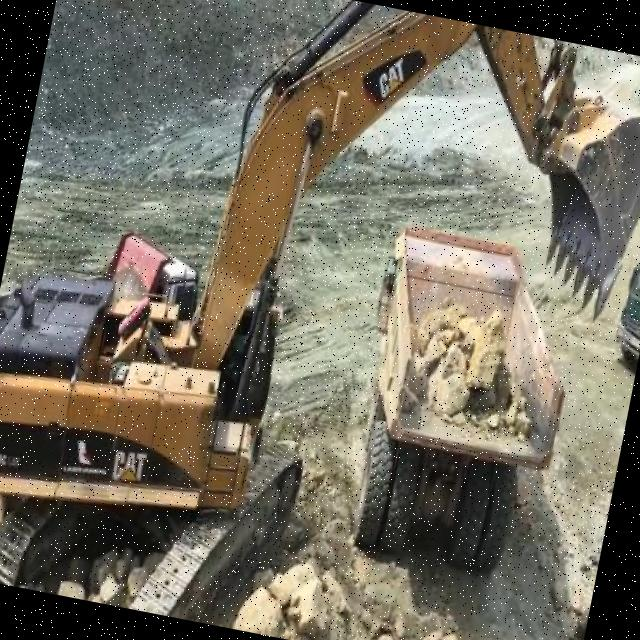Dump Truck: (323, 212, 597, 586)
Excavator: (0, 0, 640, 640)
